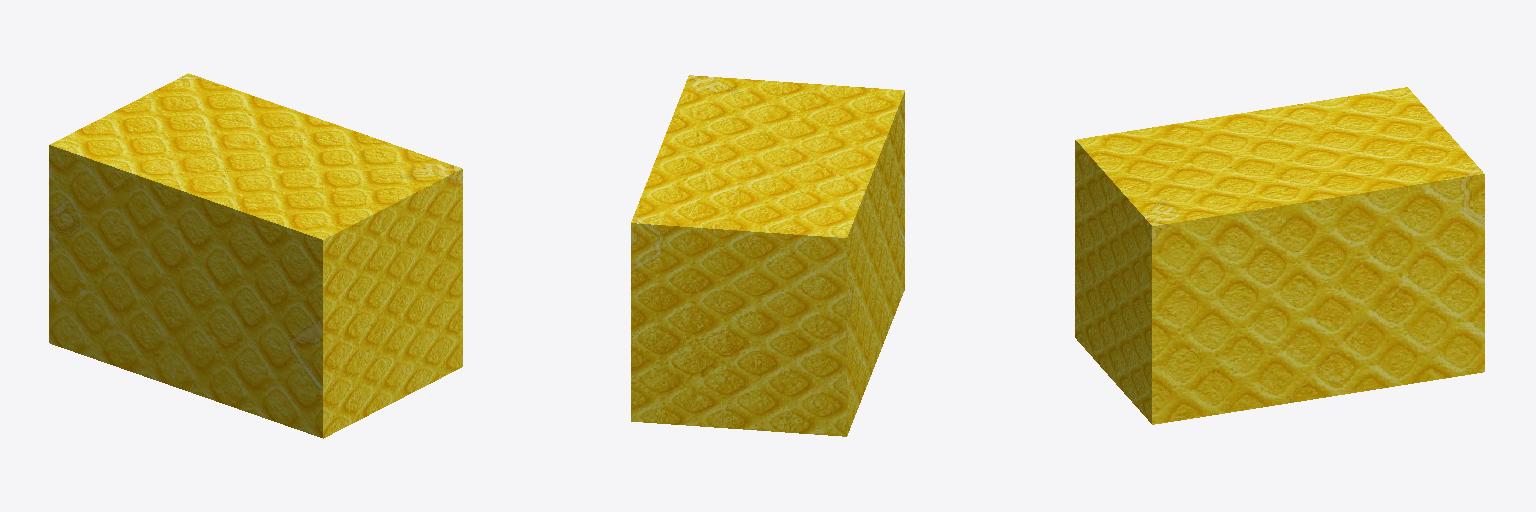
3 renders of one model, left to right at view 1: azimuth 30°, elevation 25°; view 2: azimuth 150°, elevation 25°; view 3: azimuth 270°, elevation 25°, orthographic.
Visible parts, largest first — view 1: Cube.010; view 2: Cube.010; view 3: Cube.010.
Boxes of the visible parts, x1=… form: Cube.010: x1=49, y1=73, x2=462, y2=438; Cube.010: x1=631, y1=75, x2=904, y2=436; Cube.010: x1=1075, y1=87, x2=1484, y2=424.
Size of the model in its own units: 0.5009 by 0.3329 by 0.6214.
1 materials, 1 textured.